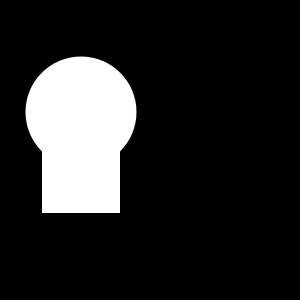circle: (42, 135, 120, 213)
rectangle: (26, 57, 136, 168)
